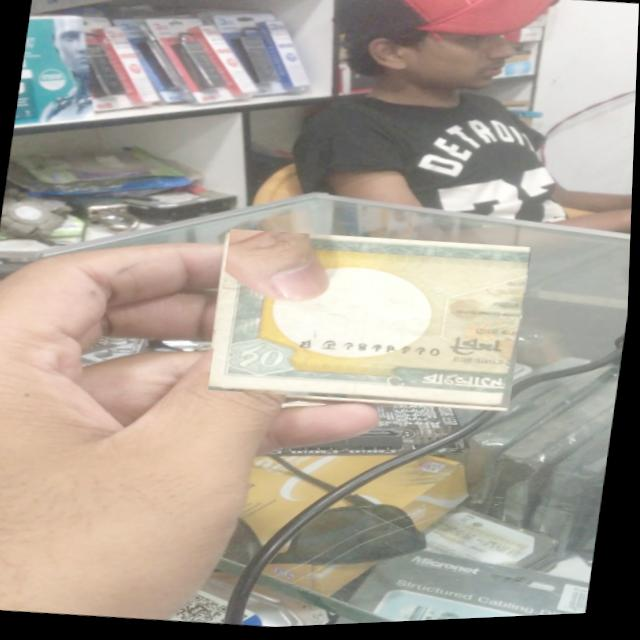Taka: (210, 220, 535, 423)
